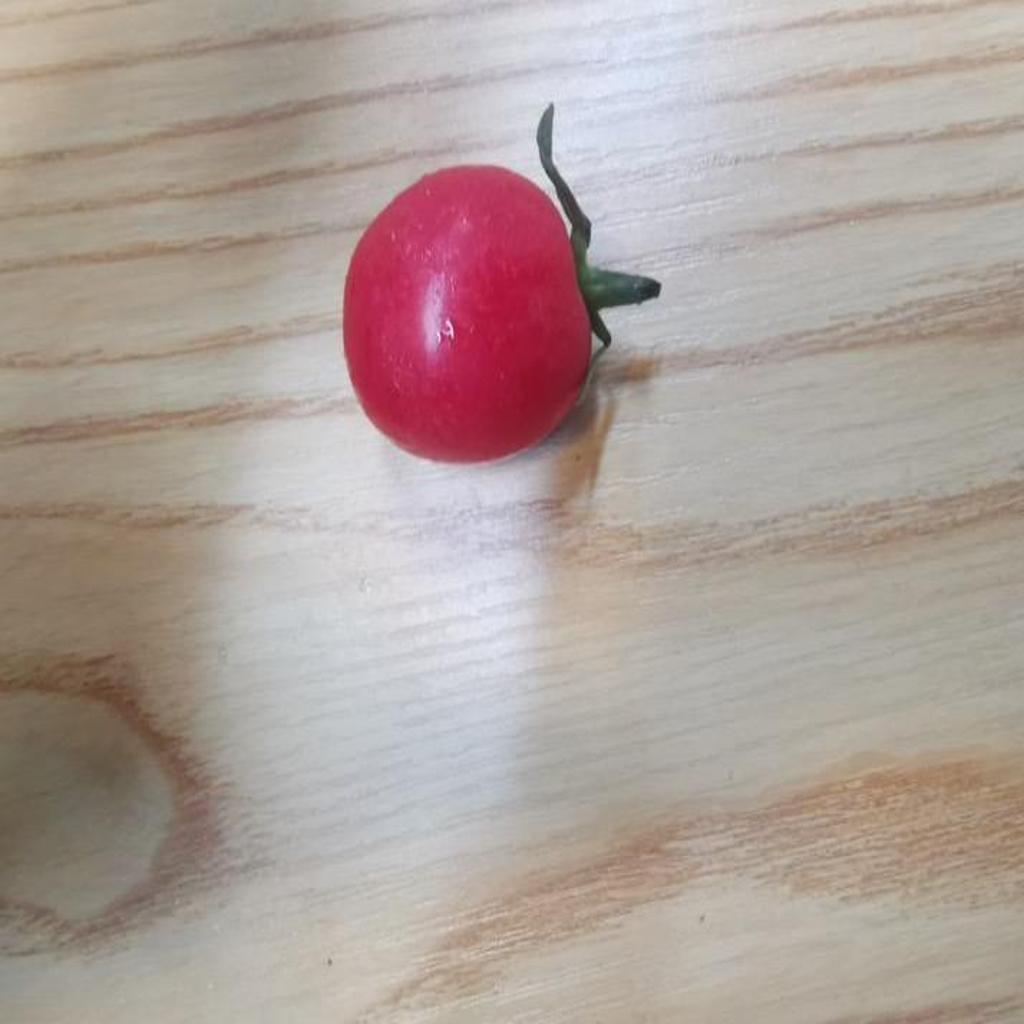tomato: (317, 158, 643, 463)
